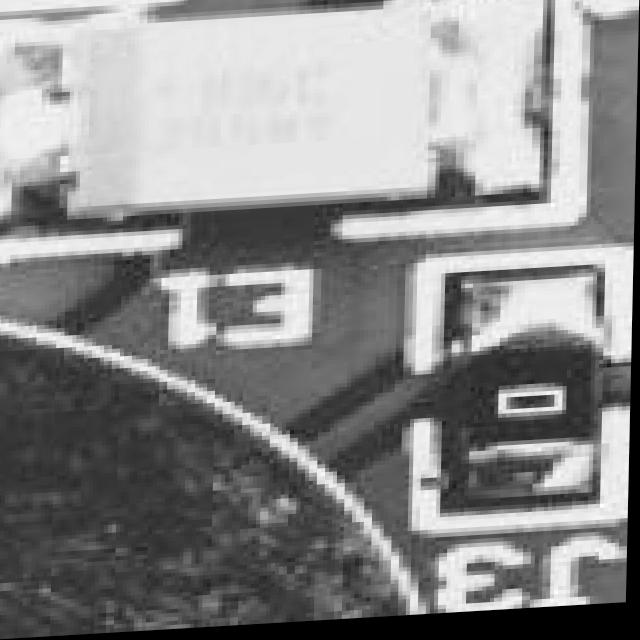LED: (12, 0, 528, 223)
buzzer: (0, 303, 446, 640)
resistor: (463, 270, 591, 498)
